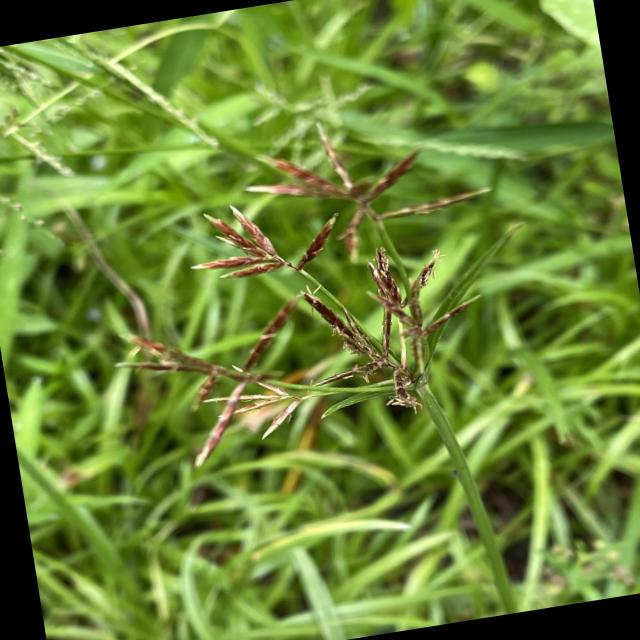cyperus: (64, 89, 537, 482)
